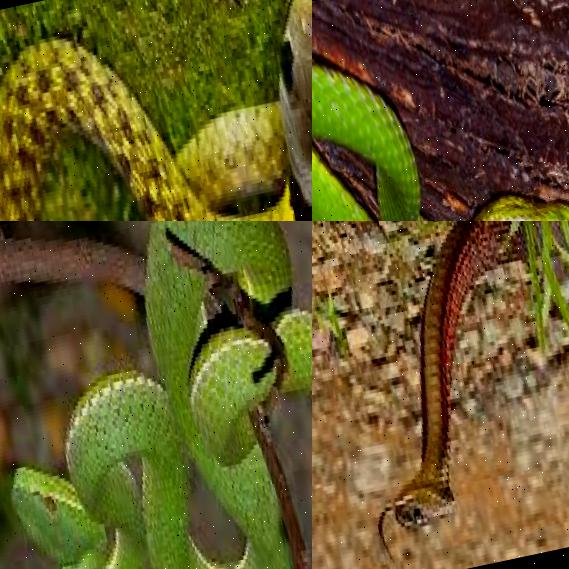snake: (0, 221, 312, 569), (312, 221, 569, 569), (0, 0, 312, 221), (312, 0, 569, 221)
